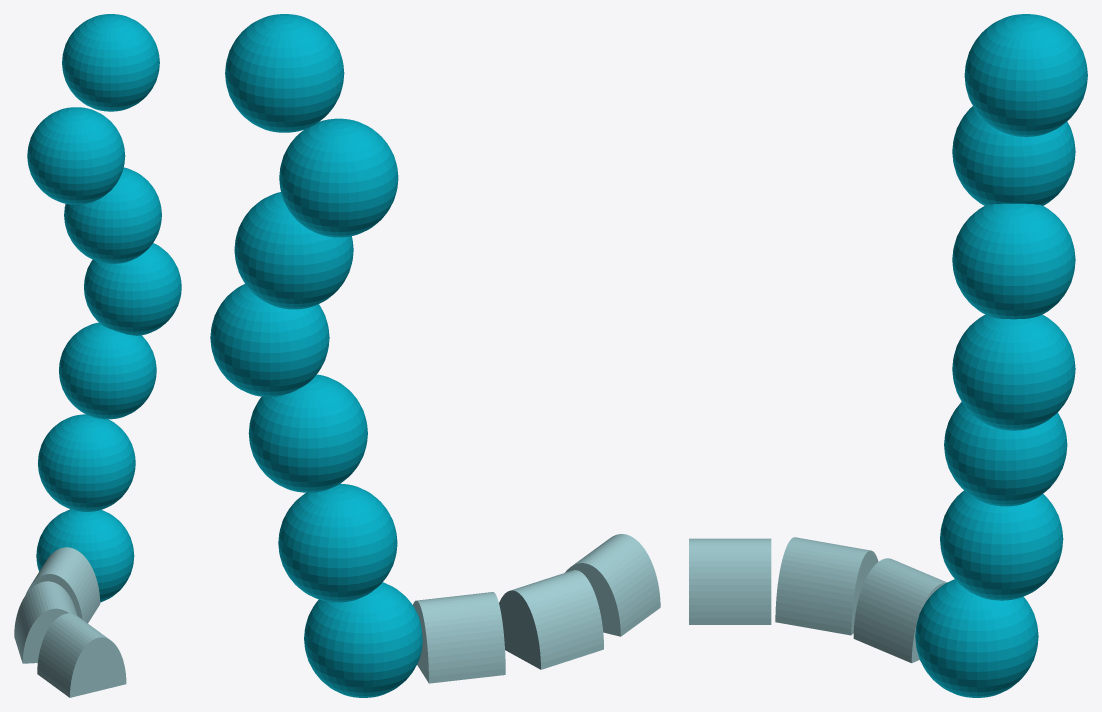
The model's file is dream_machine_in_progress.glb.
The picture shows the model from 3 angles, left to right: view 1: azimuth 30°, elevation 25°; view 2: azimuth 150°, elevation 25°; view 3: azimuth 270°, elevation 25°; orthographic projection. The views are drawn at different scales.
Parts seen in each view (by area): view 1: Mesh_Mesh_head_geo.001_lambert2SG.001; view 2: Mesh_Mesh_head_geo.001_lambert2SG.001; view 3: Mesh_Mesh_head_geo.001_lambert2SG.001.
Part boxes in pixels (x1,y1,x2,y2): Mesh_Mesh_head_geo.001_lambert2SG.001: [14, 14, 181, 697]; Mesh_Mesh_head_geo.001_lambert2SG.001: [210, 14, 660, 697]; Mesh_Mesh_head_geo.001_lambert2SG.001: [689, 14, 1087, 697].
Bounding box in the file's own units: 83 × 188 × 97.
